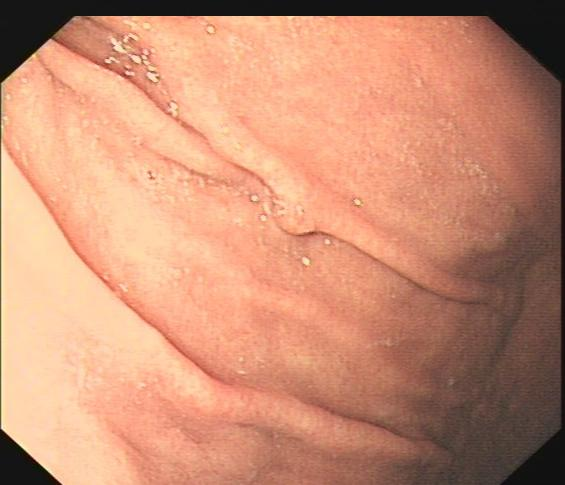Polyp: (254, 191, 338, 259)
